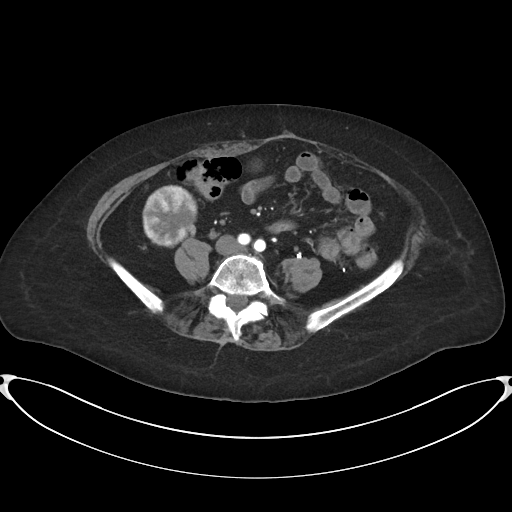Lesion: (139, 179, 198, 250)
